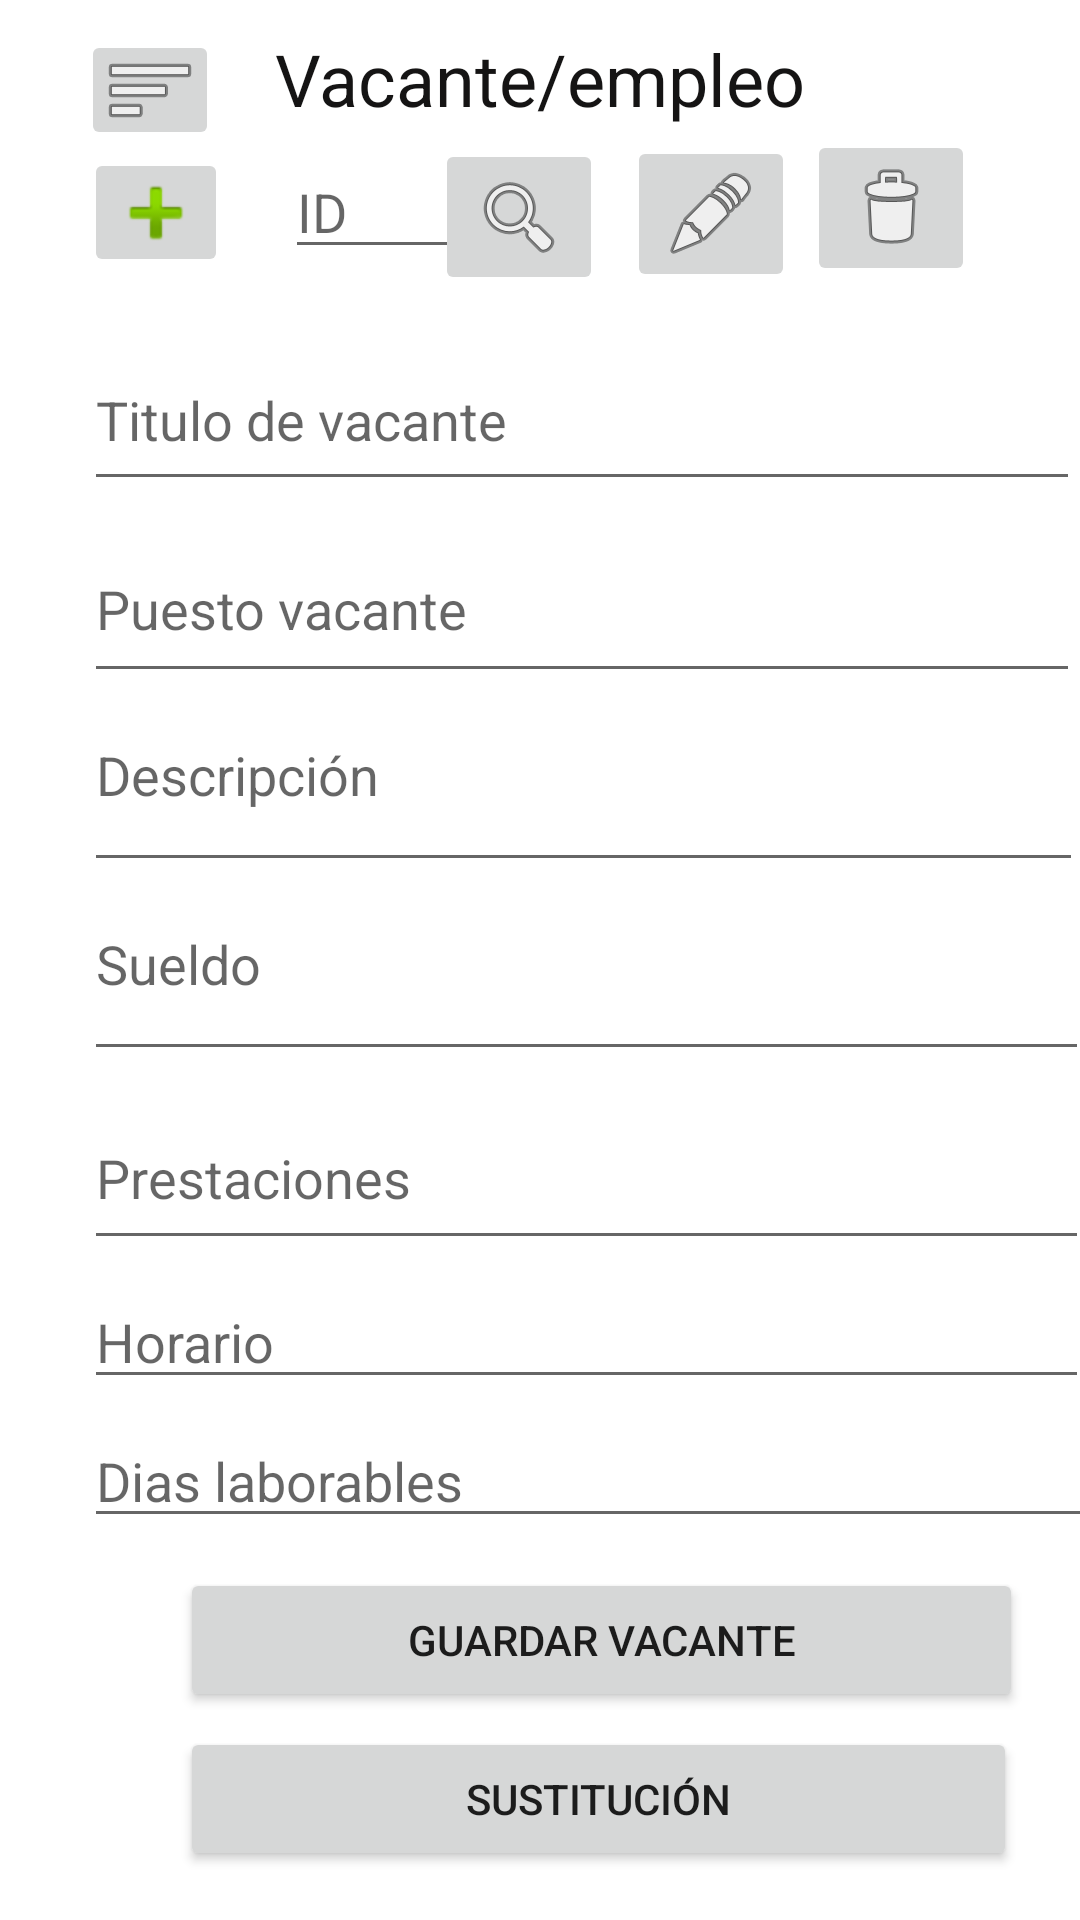

Icon bounding boxes for this 1080px x 1920px phone screenshot, format (x1, y1, x2, y2):
add: (96, 166, 216, 259)
delete: (819, 148, 963, 268)
edit: (639, 154, 783, 274)
search: (435, 157, 591, 277)
sort by size: (93, 48, 207, 132)
